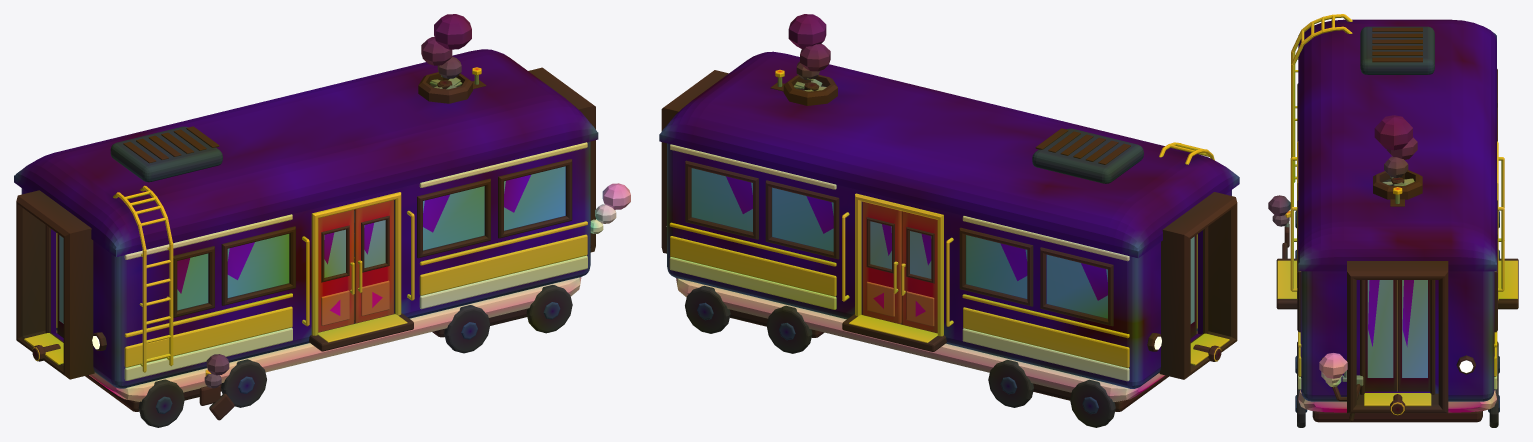
The model's file is ModernCoach_Blockout.glb.
3 views of the same model, side by side, from view 1: azimuth 30°, elevation 25°; view 2: azimuth 150°, elevation 25°; view 3: azimuth 270°, elevation 25° (orthographic). The views are drawn at different scales.
Parts seen in each view (by area): view 1: Roof, Body, Windows, Livery, Ends, Underframe, SideDoorLeaf_R, SideDoorLeaf_L, SideDoorSill, RoofLadder, SideDoorFrame, Broken_Bits__Aircon (+3 smaller); view 2: Roof, Body, Windows, Livery, Underframe, Ends, SideDoorLeaf_R_Far, SideDoorLeaf_L_Far, SideDoorSill_Far, SideDoorFrame_Far, Broken_Bits__Aircon, EndDoorLeaf_L_Rear; view 3: Roof, Body, Ends, EndDoorLeaf_L_Front, EndDoorLeaf_R_Front, Underframe, Broken_Bits__Aircon, SideDoorSill, SideDoorSill_Far, RoofLadder, Windows, Broken_Bits__BrakeHose (+3 smaller).
Part boxes in pixels (<box>): Roof: <box>14,49,598,256</box>; Body: <box>21,141,590,388</box>; Windows: <box>173,159,572,317</box>; Livery: <box>124,142,587,380</box>; Ends: <box>16,67,595,379</box>; Underframe: <box>85,277,581,427</box>; SideDoorLeaf_R: <box>354,200,393,322</box>; SideDoorLeaf_L: <box>318,210,354,332</box>; SideDoorSill: <box>302,210,414,351</box>; RoofLadder: <box>113,185,173,372</box>; SideDoorFrame: <box>311,192,401,335</box>; Broken_Bits__Aircon: <box>421,14,471,89</box>; Roof: <box>659,51,1239,258</box>; Body: <box>667,143,1231,388</box>; Windows: <box>685,160,1113,326</box>; Livery: <box>669,144,1129,381</box>; Underframe: <box>676,278,1168,427</box>; Ends: <box>661,70,1237,379</box>; SideDoorLeaf_R_Far: <box>862,201,901,323</box>; SideDoorLeaf_L_Far: <box>901,211,937,332</box>; SideDoorSill_Far: <box>842,212,953,351</box>; SideDoorFrame_Far: <box>855,193,943,336</box>; Broken_Bits__Aircon: <box>788,14,830,91</box>; EndDoorLeaf_L_Rear: <box>1190,234,1197,338</box>; Roof: <box>1298,19,1496,271</box>; Body: <box>1300,271,1494,401</box>; Ends: <box>1321,261,1475,413</box>; EndDoorLeaf_L_Front: <box>1365,280,1397,391</box>; EndDoorLeaf_R_Front: <box>1398,280,1430,391</box>; Underframe: <box>1295,210,1499,427</box>; Broken_Bits__Aircon: <box>1374,115,1417,185</box>; SideDoorSill: <box>1276,157,1297,309</box>; SideDoorSill_Far: <box>1498,157,1518,309</box>; RoofLadder: <box>1291,14,1352,182</box>; Windows: <box>1297,69,1497,332</box>; Broken_Bits__BrakeHose: <box>1319,353,1360,421</box>.
Bounding box in the file's own units: 8.45 × 4.21 × 3.35.
